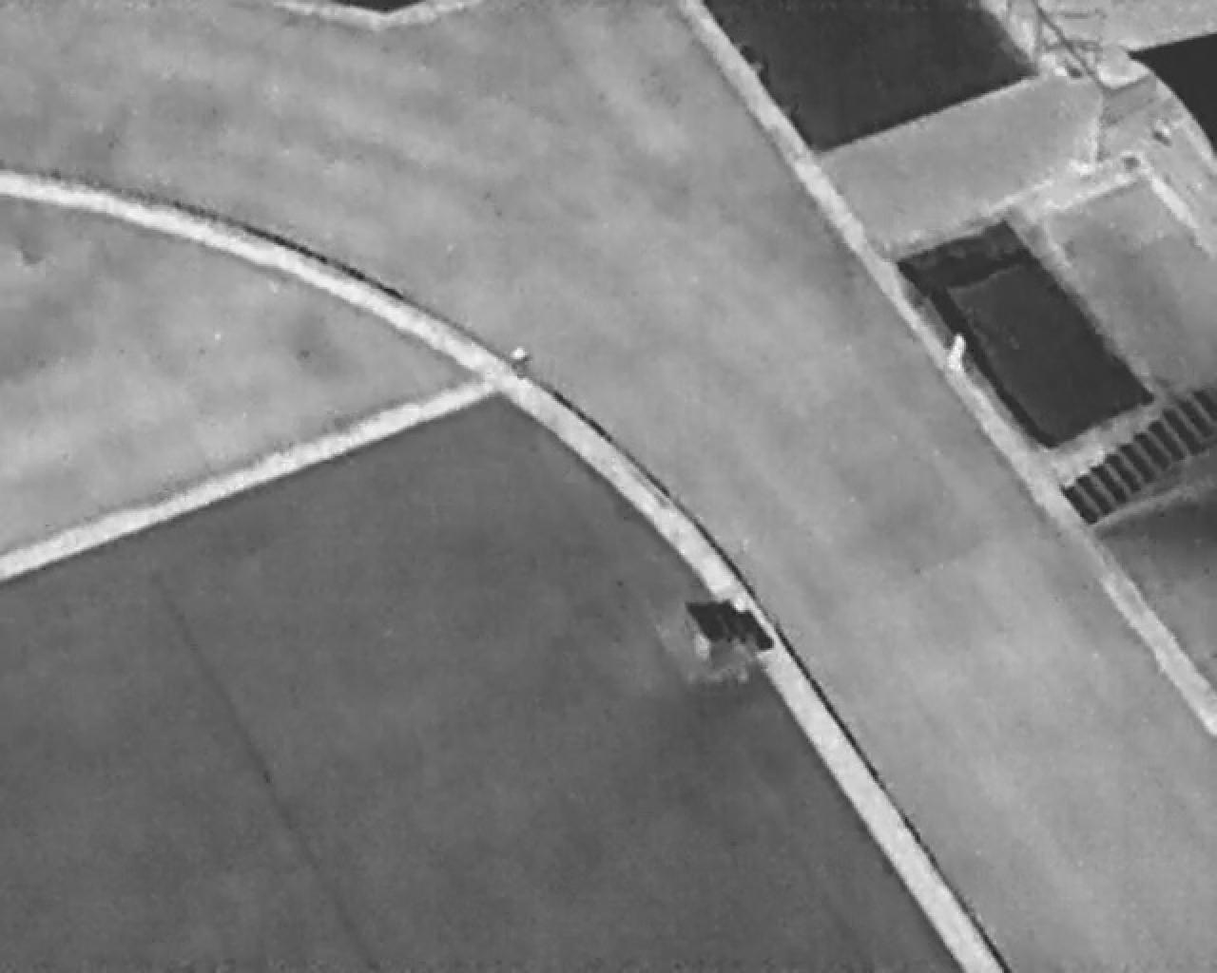person: (944, 332, 971, 377), (511, 347, 533, 398)
